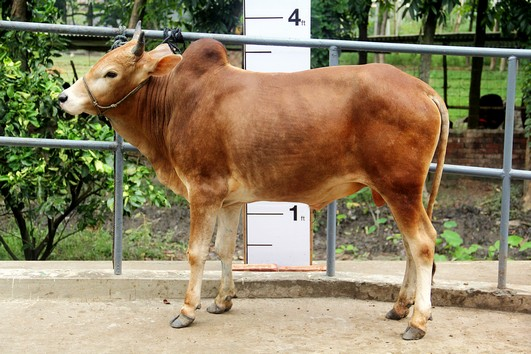cow: (47, 14, 461, 341)
